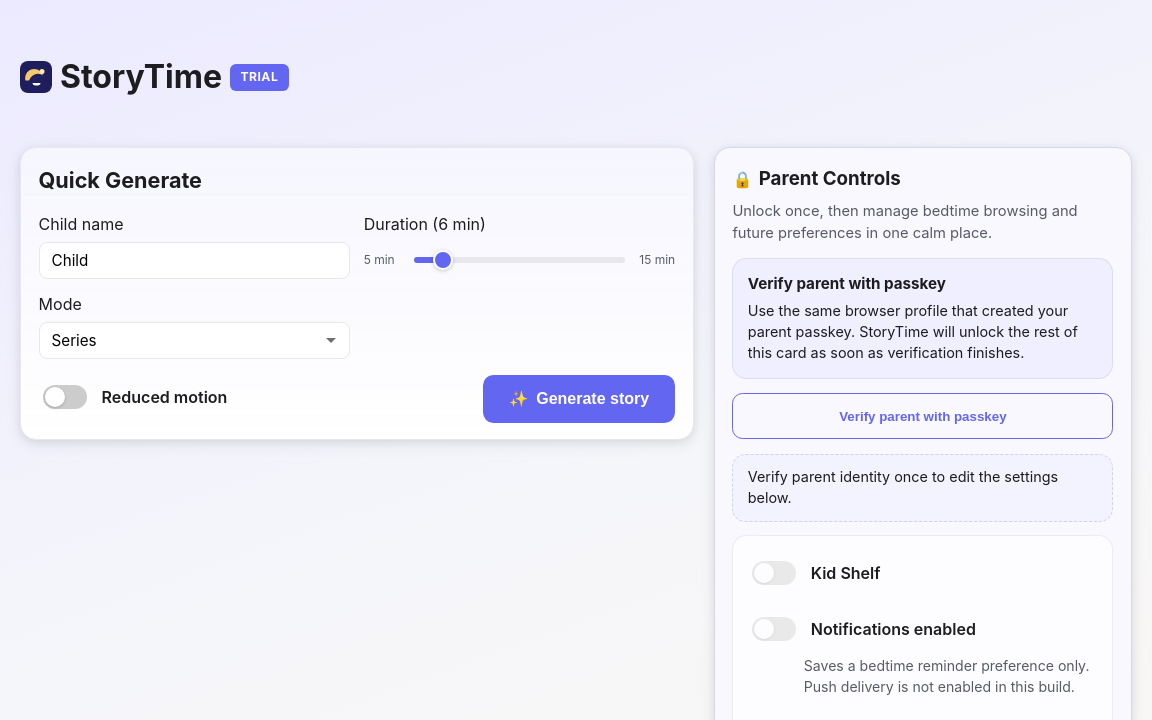
Test: App › matches generated story visual baseline with poster layers
The width and height of the screenshot is (1152, 720).
Click the button "✨ Generate story".
click(579, 399)  # box 483,375 -> 675,423
(page scrolled)
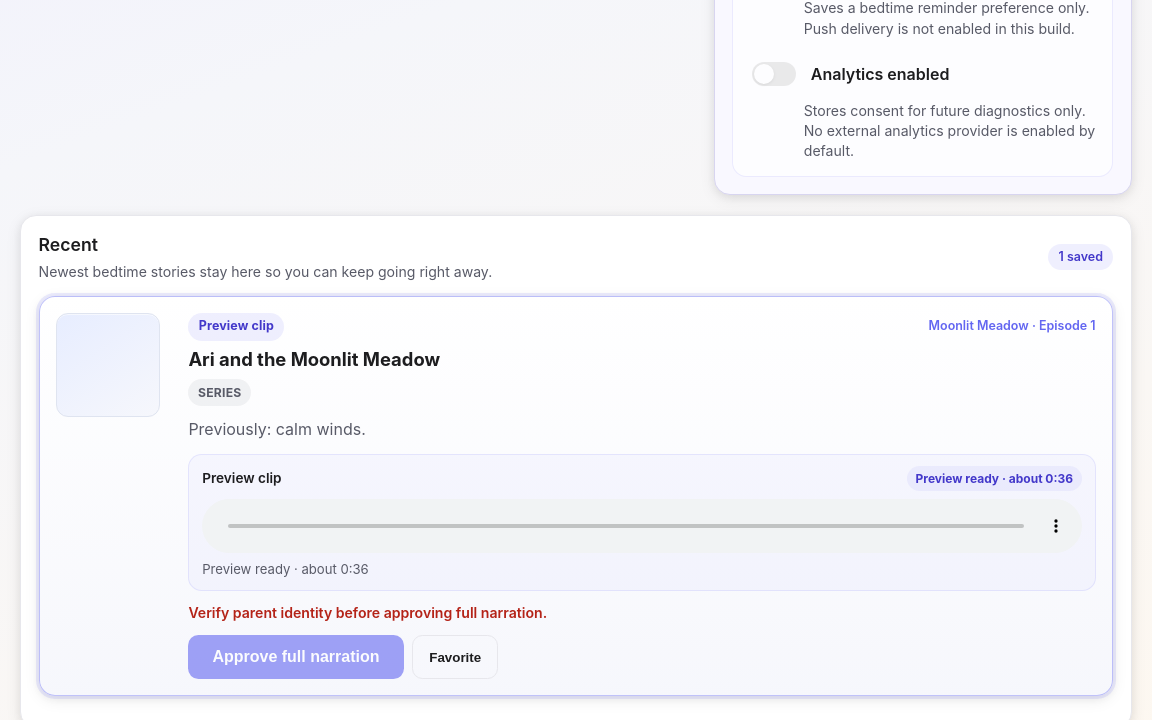
expect the text "Ari and the Moonlit Meadow" is shown: met, box 188,348 -> 440,370
